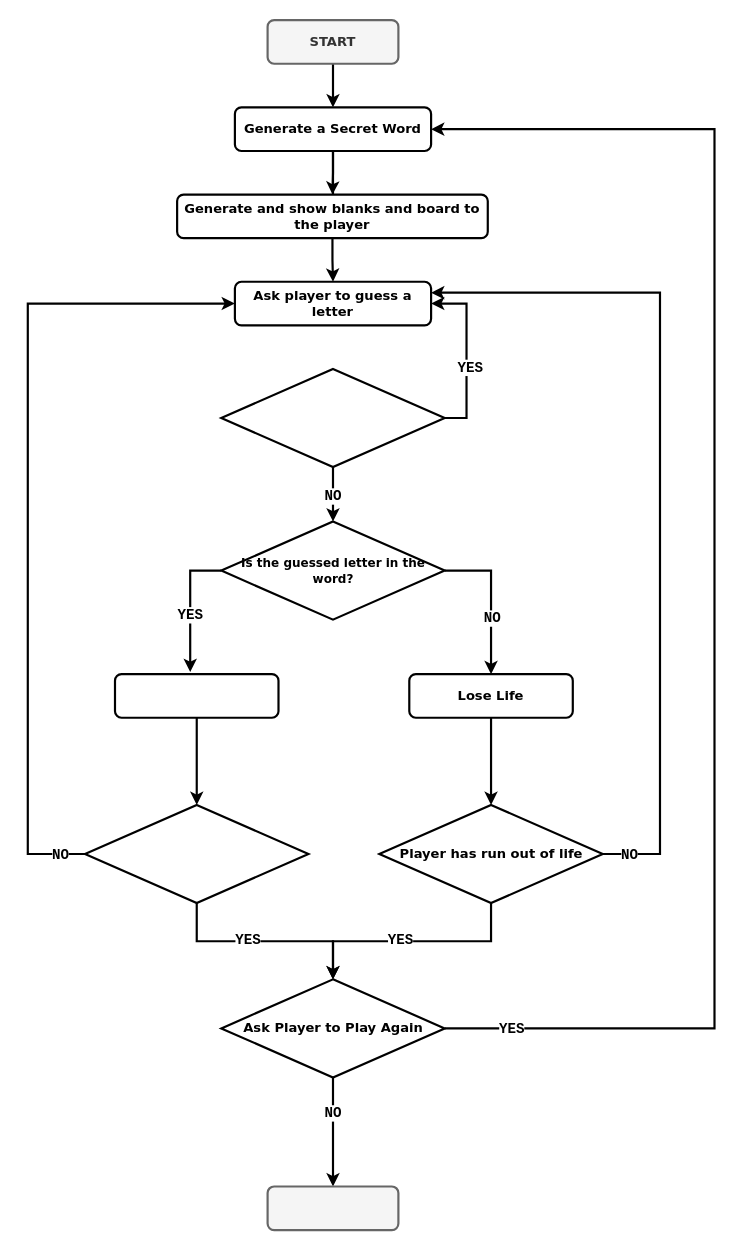
Image size: 742x1249. Some labels were removed from this diagram. Here are the shapes that lost their labels. From the top down, the centre of each, then its label:
At pixel 332 417: "Check if letter is already guessed?".
At pixel 196 695: "Replace letter with blanks".
At pixel 196 853: "Player has guessed all letters".
At pixel 332 1208: "END GAME".
